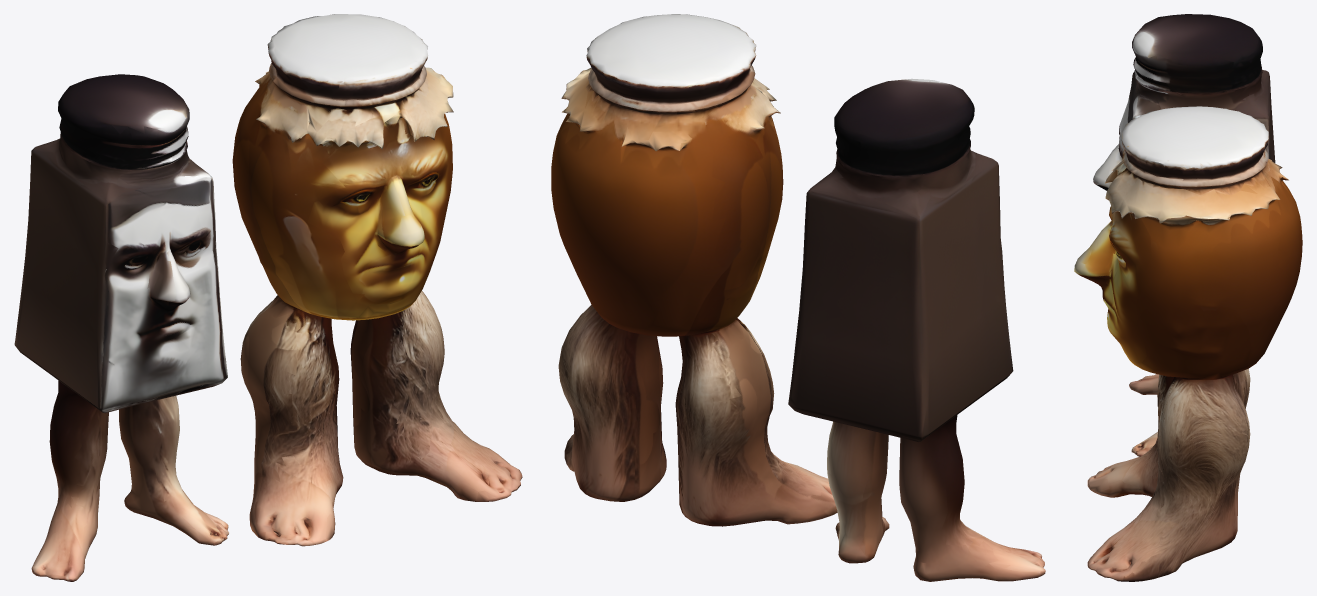
Rendered from Garamaraman.fbx.
The picture shows the model from 3 angles, left to right: view 1: azimuth 30°, elevation 25°; view 2: azimuth 150°, elevation 25°; view 3: azimuth 270°, elevation 25°; orthographic projection. The views are drawn at different scales.
Parts seen in each view (by area): view 1: model; view 2: model; view 3: model.
Part boxes in pixels (x1=…): model: x1=14, y1=14, x2=522, y2=581; model: x1=551, y1=14, x2=1045, y2=581; model: x1=1074, y1=14, x2=1302, y2=581.
Bounding box in the file's own units: 190 × 171 × 89.05.
Materials: 1 (1 with a texture image).
